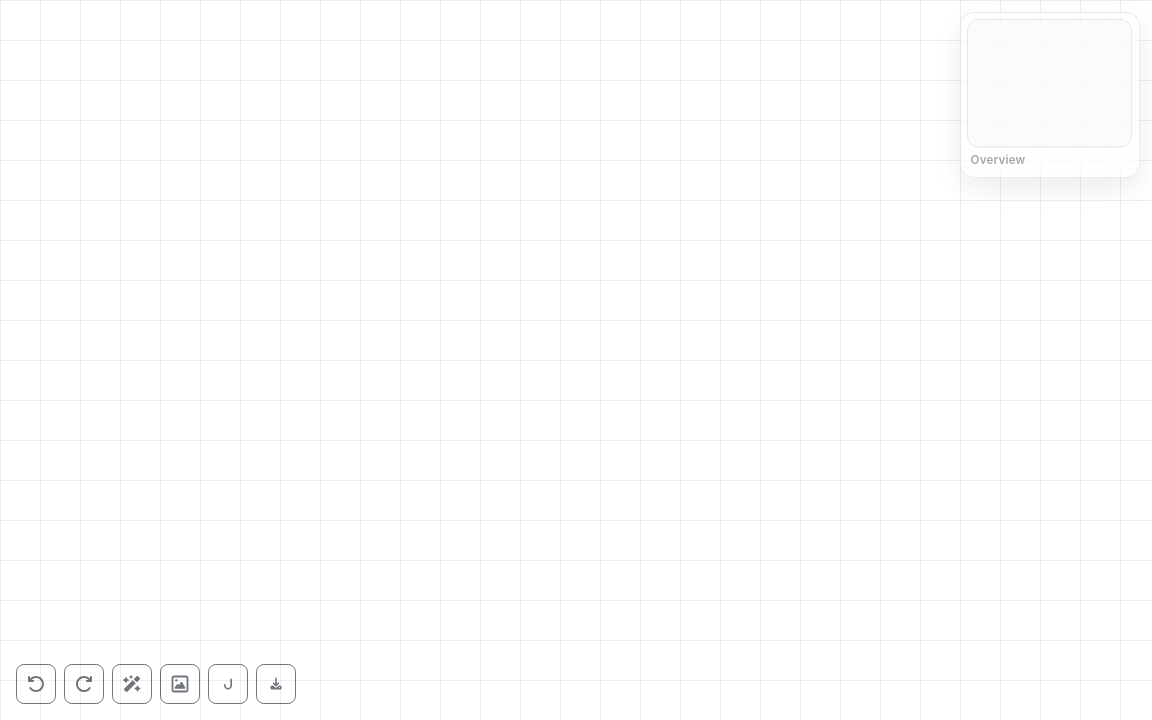
Scenario: MapCanvas export flow › clears the region overlay when the export dialog is closed
This screenshot has width=1152, height=720.
Click the button named "Export PNG" at (276, 684), box [256,664,296,704]
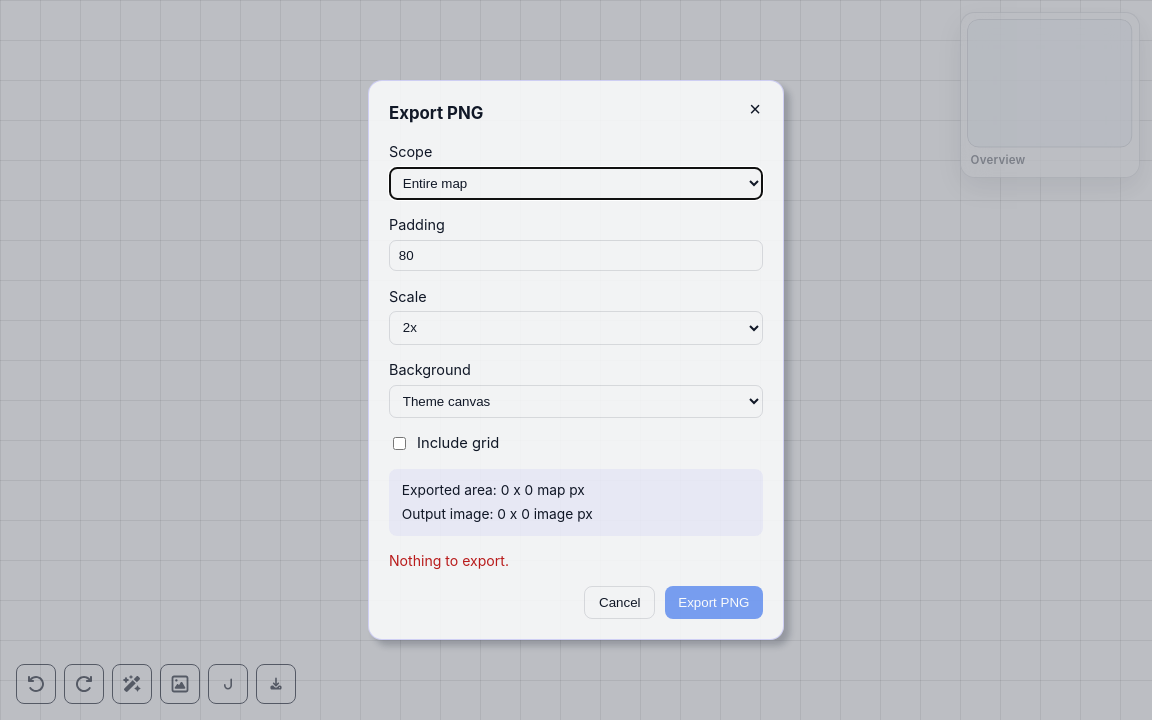
Select "Region" in the dropdown labelled "Scope" at (576, 183), box [389,166,763,200]
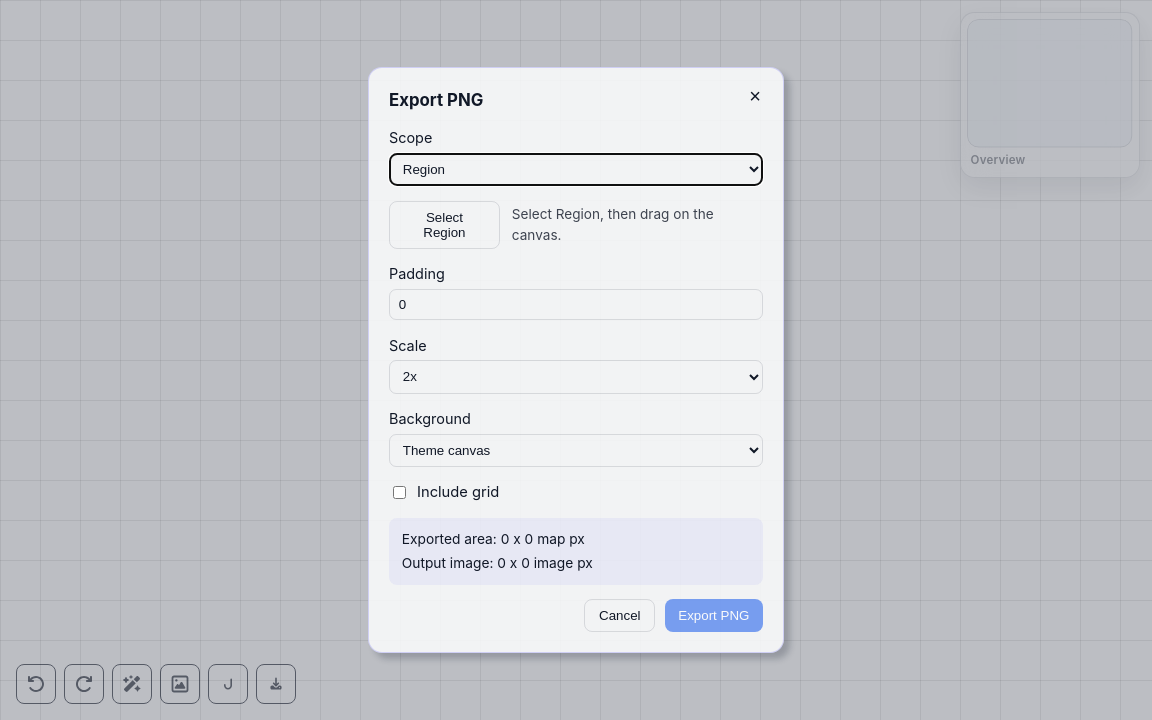
Click the button "Select Region" at (444, 225), box [389,201,500,249]
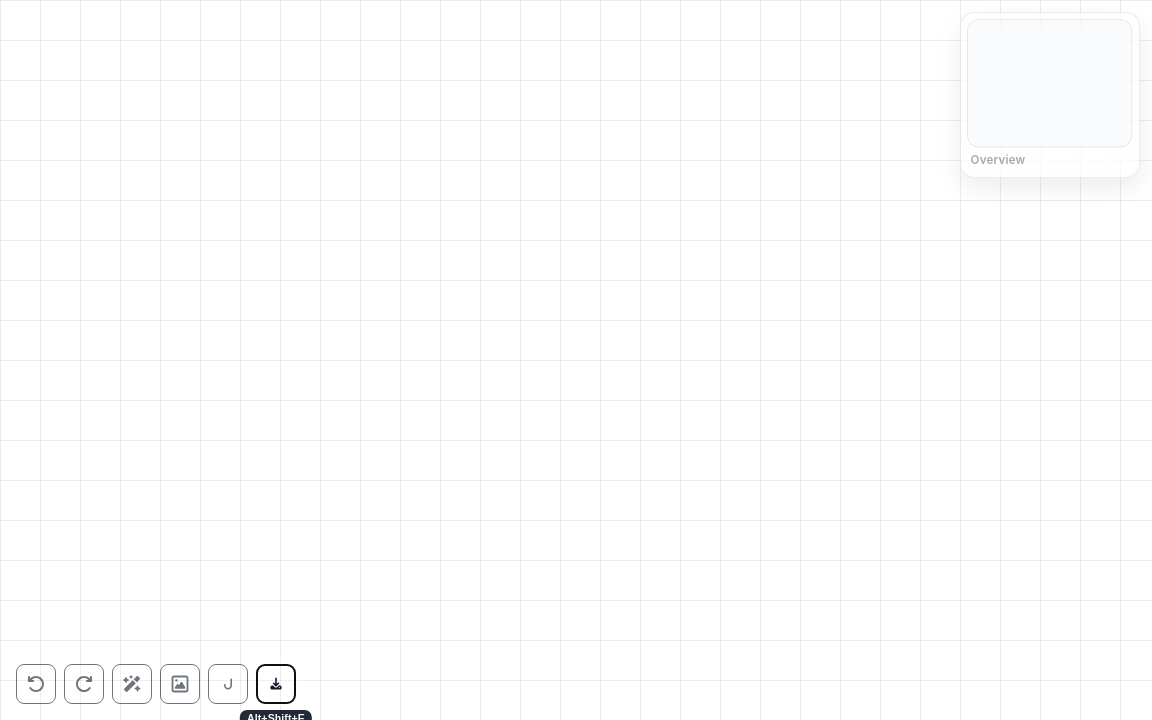
Press the mouse on the element with test id "map-canvas" at (576, 360), box [0,0,1151,719]
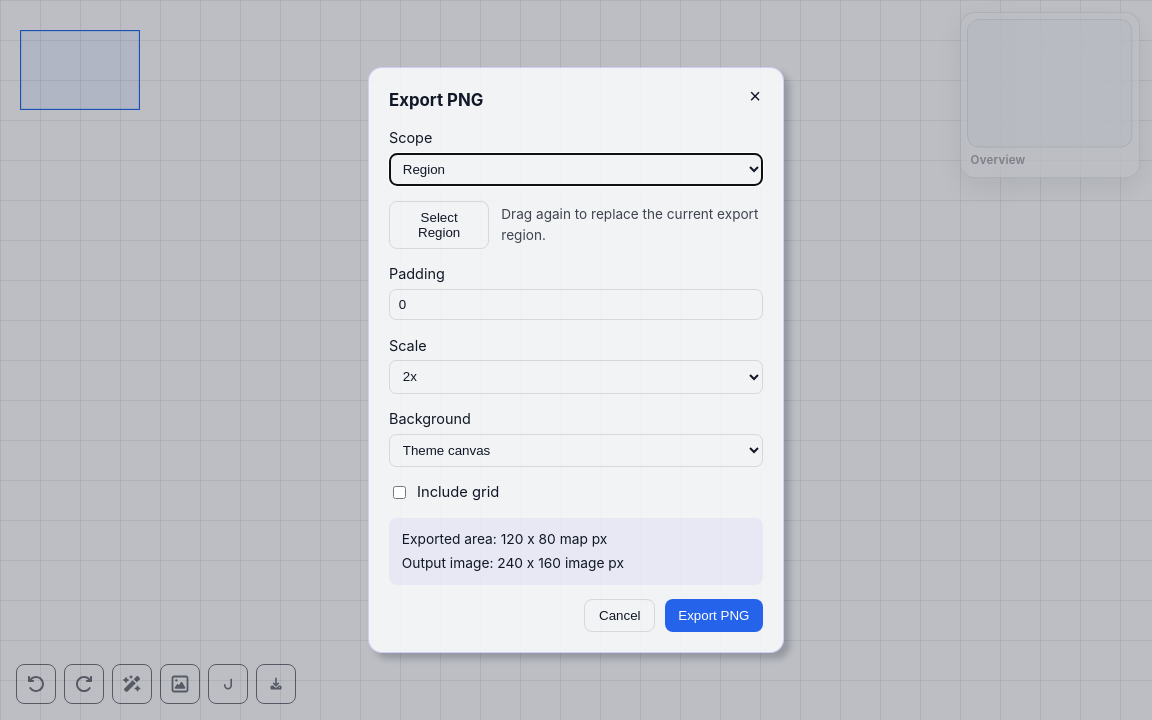
Expected: the element with test id "map-canvas-export-region" is shown, [20,30,140,110]
Click the button "Cancel" at (620, 616), box [584,599,655,632]
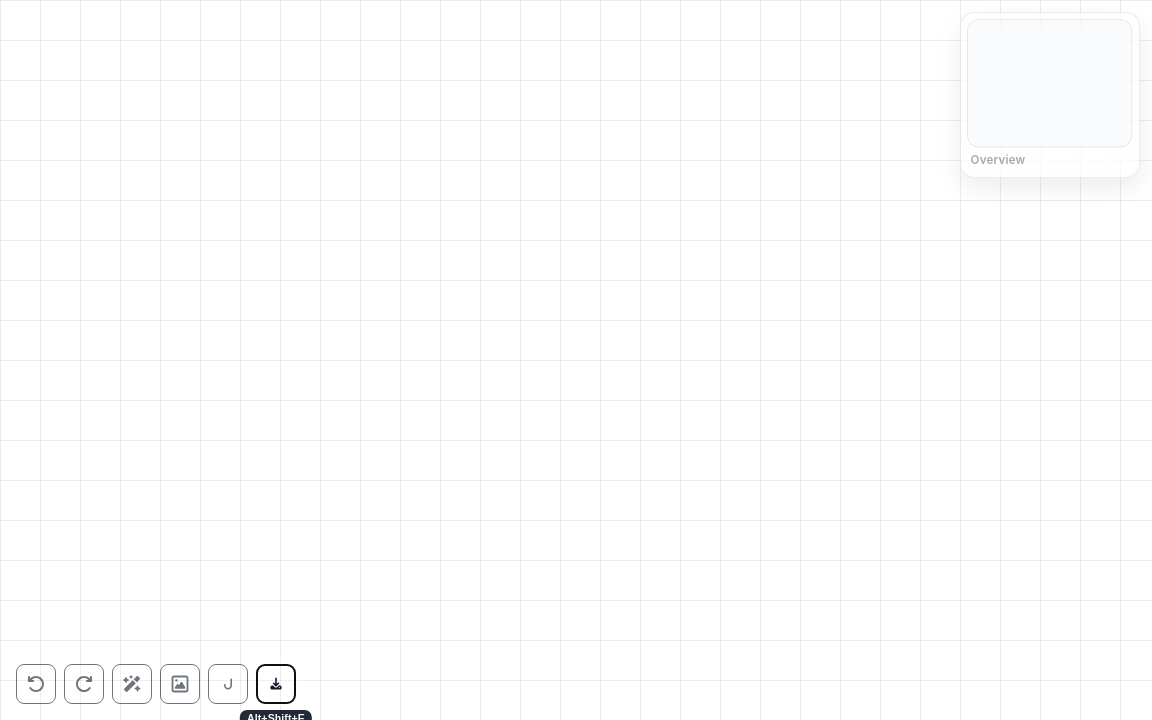
Expected: the dialog with test id "export-png-dialog" is gone
Expected: the element with test id "map-canvas-export-region" is gone
